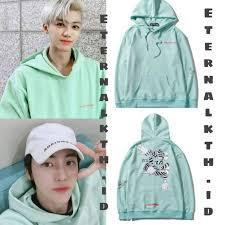sweater: (117, 1, 200, 109), (116, 112, 196, 220), (1, 44, 105, 119)
